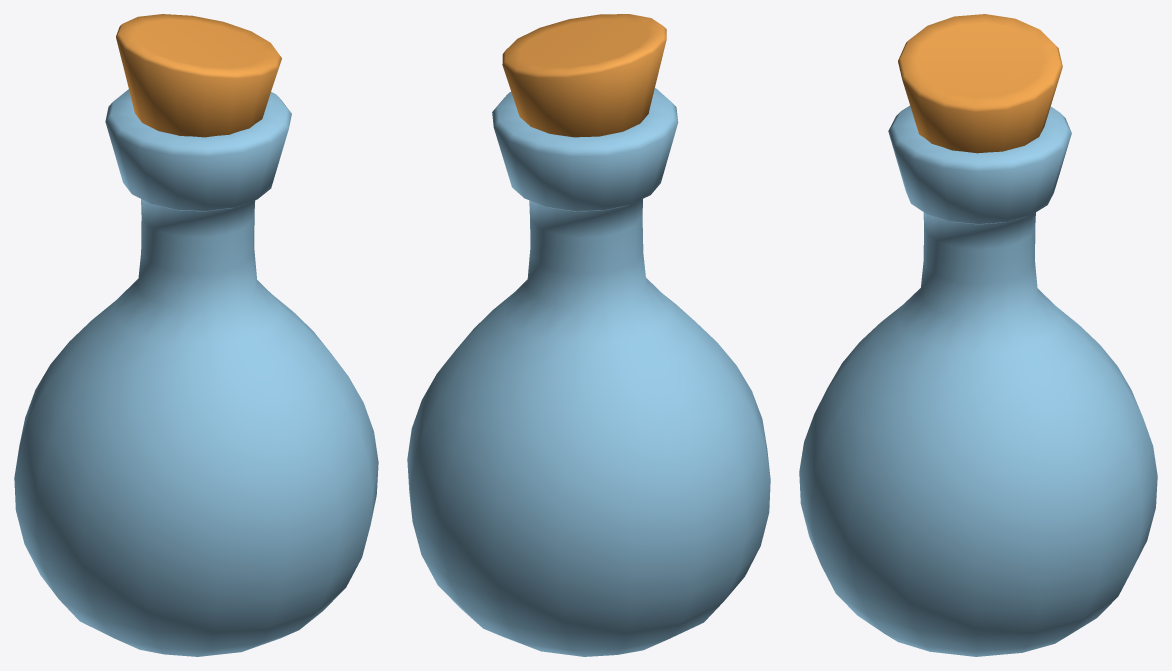
Rendered from SM_Health_Potion.fbx.
3 views of the same model, side by side, from view 1: azimuth 30°, elevation 25°; view 2: azimuth 150°, elevation 25°; view 3: azimuth 270°, elevation 25° (orthographic). The views are drawn at different scales.
Parts seen in each view (by area): view 1: Health_Potion; view 2: Health_Potion; view 3: Health_Potion.
Part boxes in pixels (bbox=[...]): Health_Potion: bbox=[14, 14, 378, 656]; Health_Potion: bbox=[407, 14, 770, 656]; Health_Potion: bbox=[799, 14, 1157, 656].
Size of the model in its own units: 18.48 by 33.5 by 18.48.
